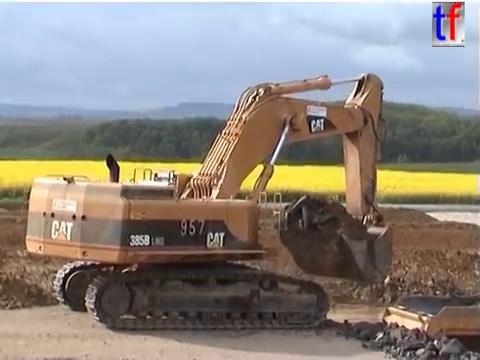excavator: (22, 69, 396, 334)
truck: (378, 290, 480, 360)
